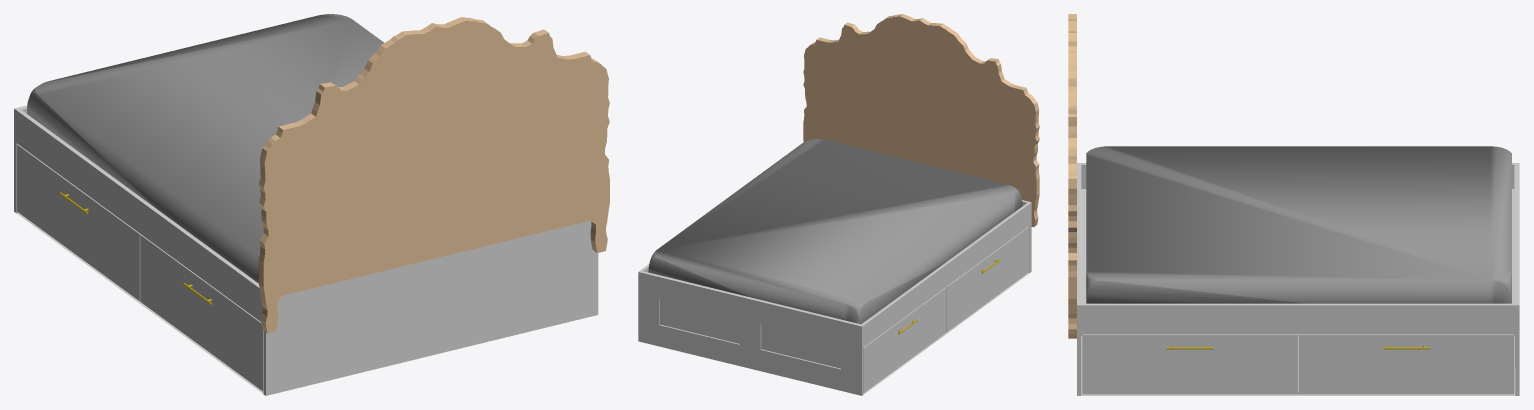
File: Bed_1.0.fbx
3 renders of one model, left to right at view 1: azimuth 30°, elevation 25°; view 2: azimuth 150°, elevation 25°; view 3: azimuth 270°, elevation 25°, orthographic. The views are drawn at different scales.
Visible parts, largest first — view 1: Headboard V2, Bed Frame, Bed Mattress; view 2: Bed Mattress, Headboard V2, Bed Frame; view 3: Bed Mattress, Bed Frame, Headboard V2.
Part boxes in pixels (<box>): Headboard V2: <box>259,17,609,333</box>; Bed Frame: <box>14,105,598,395</box>; Bed Mattress: <box>27,14,383,283</box>; Bed Mattress: <box>648,139,1022,324</box>; Headboard V2: <box>803,14,1039,227</box>; Bed Frame: <box>638,200,1031,395</box>; Bed Mattress: <box>1086,146,1511,303</box>; Bed Frame: <box>1077,163,1519,395</box>; Headboard V2: <box>1068,14,1076,338</box>.
Bounding box in the file's own units: 165 × 152 × 212.
